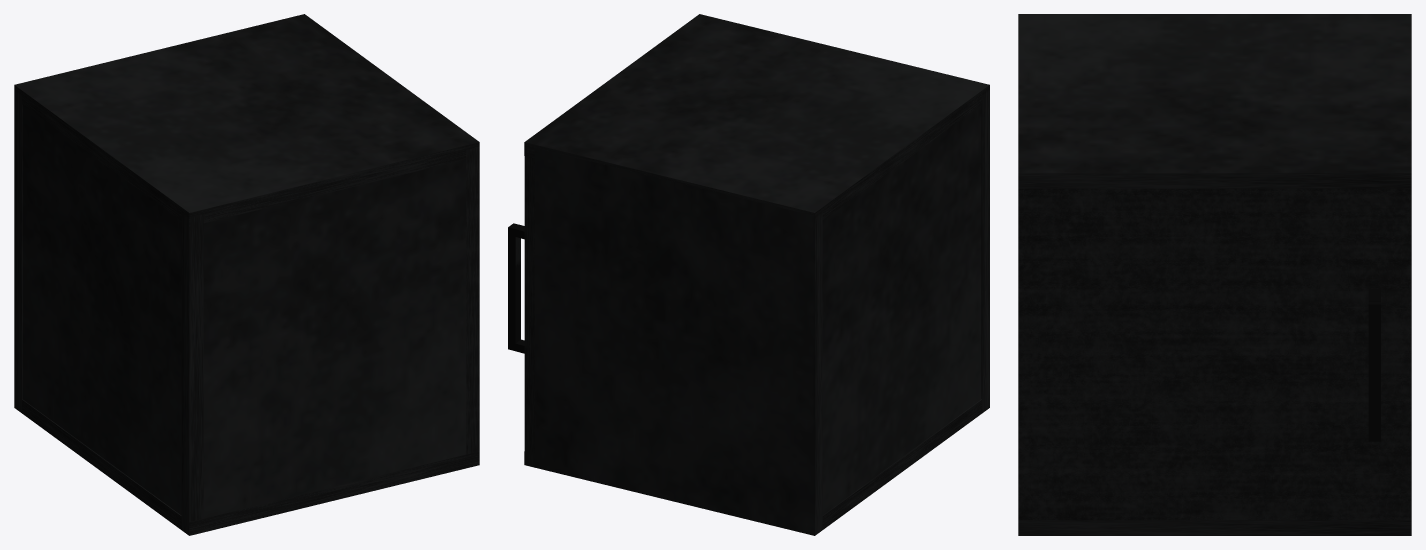
File: Wood storage.fbx
3 views of the same model, side by side, from view 1: azimuth 30°, elevation 25°; view 2: azimuth 150°, elevation 25°; view 3: azimuth 270°, elevation 25° (orthographic). The views are drawn at different scales.
Parts seen in each view (by area): view 1: Wood Storage, Wood Storage .003, Wood Storage .002, Wood Storage .005, Wood Storage Door, Wood Storage .004; view 2: Wood Storage .004, Wood Storage .003, Wood Storage .002, Wood Storage Door, Wood Storage, Wood Storage .005, Wood Storage Door Part; view 3: Wood Storage Door, Wood Storage .003, Wood Storage .005, Wood Storage Door Part.
Part boxes in pixels (x1,y1,x2,y2): Wood Storage: [181, 159, 466, 534]; Wood Storage .003: [14, 14, 479, 226]; Wood Storage .002: [22, 105, 203, 521]; Wood Storage .005: [14, 399, 479, 535]; Wood Storage Door: [466, 147, 479, 454]; Wood Storage .004: [14, 88, 22, 412]; Wood Storage .004: [534, 148, 822, 535]; Wood Storage .003: [524, 14, 989, 220]; Wood Storage .002: [822, 105, 981, 514]; Wood Storage Door: [524, 156, 534, 466]; Wood Storage: [981, 88, 989, 412]; Wood Storage .005: [524, 399, 989, 535]; Wood Storage Door Part: [508, 223, 524, 353]; Wood Storage Door: [1018, 188, 1411, 520]; Wood Storage .003: [1018, 14, 1411, 188]; Wood Storage .005: [1018, 520, 1411, 535]; Wood Storage Door Part: [1368, 289, 1380, 441].
Bounding box in the file's own units: 211 × 204 × 200.
2 materials, 2 textured.
